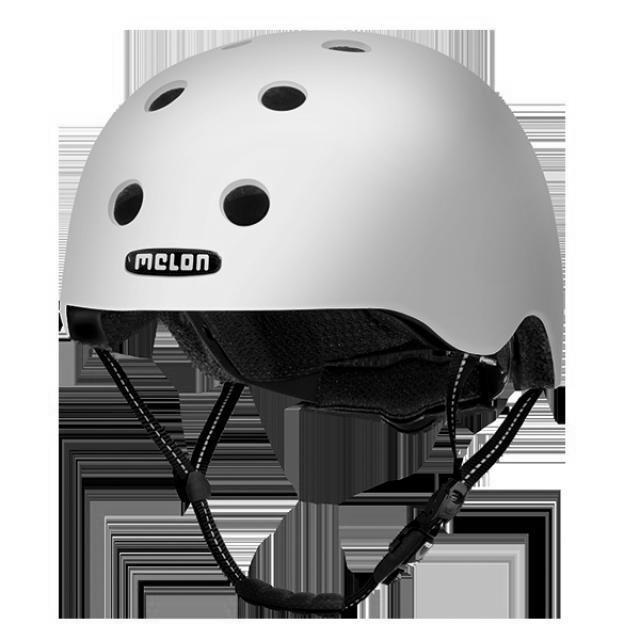helmet: (58, 29, 565, 433)
